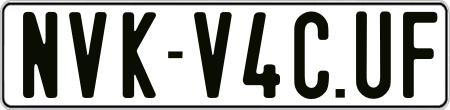4: (241, 11, 280, 98)
C: (294, 12, 329, 99)
F: (402, 12, 433, 104)
K: (123, 10, 157, 100)
N: (21, 10, 61, 100)
U: (355, 10, 392, 100)
V: (192, 9, 235, 98), (67, 9, 105, 100)
